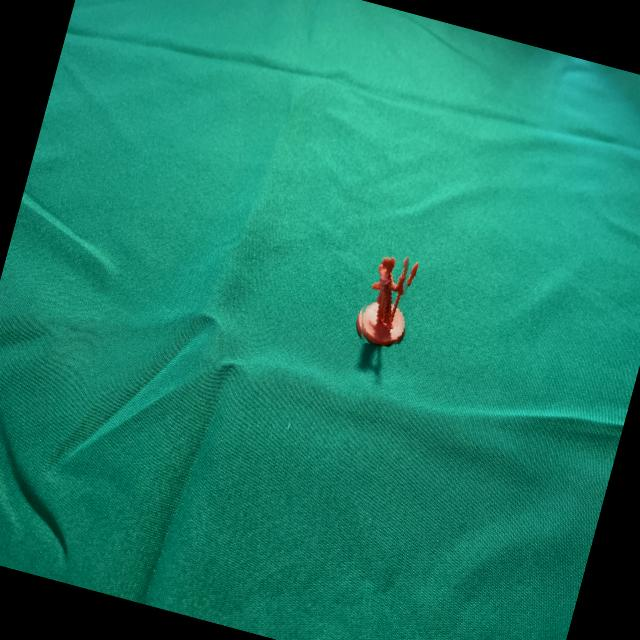amon_follower: (361, 257, 409, 345)
